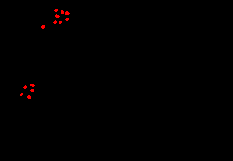Target: (65, 11, 70, 15), (55, 14, 60, 18), (53, 20, 57, 24), (41, 25, 45, 29), (23, 85, 27, 89), (27, 95, 31, 99), (30, 84, 35, 87), (54, 9, 58, 12), (61, 10, 64, 14), (65, 18, 69, 21), (30, 89, 34, 92), (59, 21, 62, 24), (20, 93, 23, 96)
